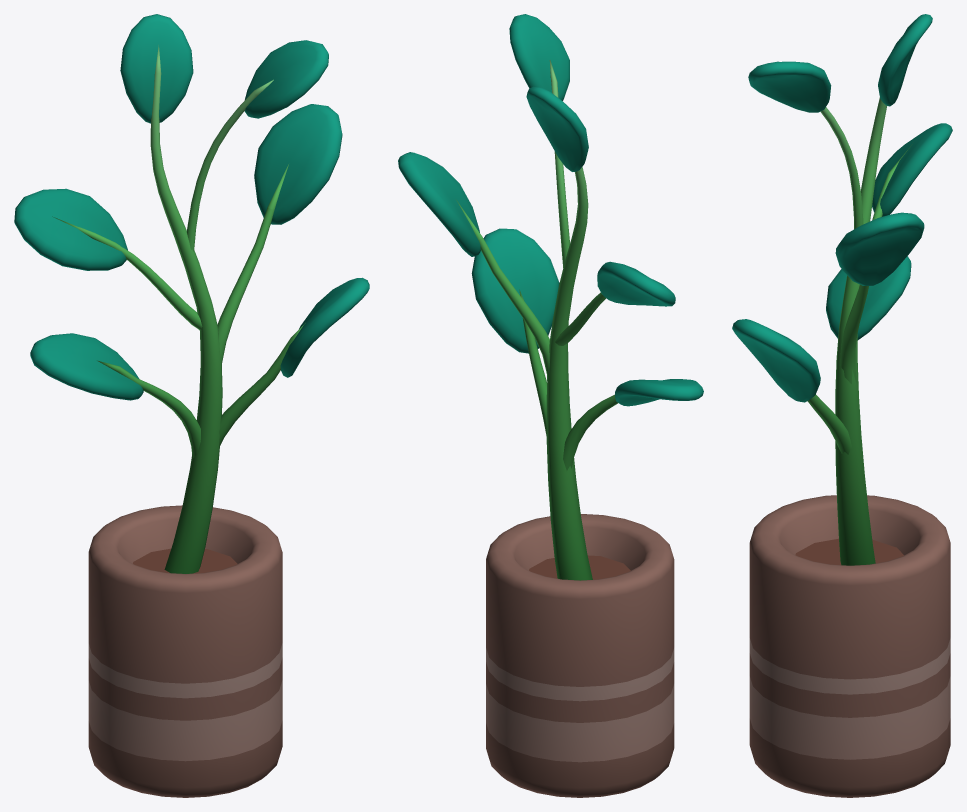
The model's file is Plants_15.glb.
3 views of the same model, side by side, from view 1: azimuth 30°, elevation 25°; view 2: azimuth 150°, elevation 25°; view 3: azimuth 270°, elevation 25° (orthographic). The views are drawn at different scales.
Parts seen in each view (by area): view 1: Plants_15; view 2: Plants_15; view 3: Plants_15.
Boxes of the visible parts, left/top/right/bottom form: Plants_15: left=14, top=14, right=369, bottom=797; Plants_15: left=398, top=14, right=703, bottom=797; Plants_15: left=732, top=14, right=952, bottom=797.
Bounding box in the file's own units: 0.5145 × 1.16 × 0.3109.
1 material, 1 textured.
